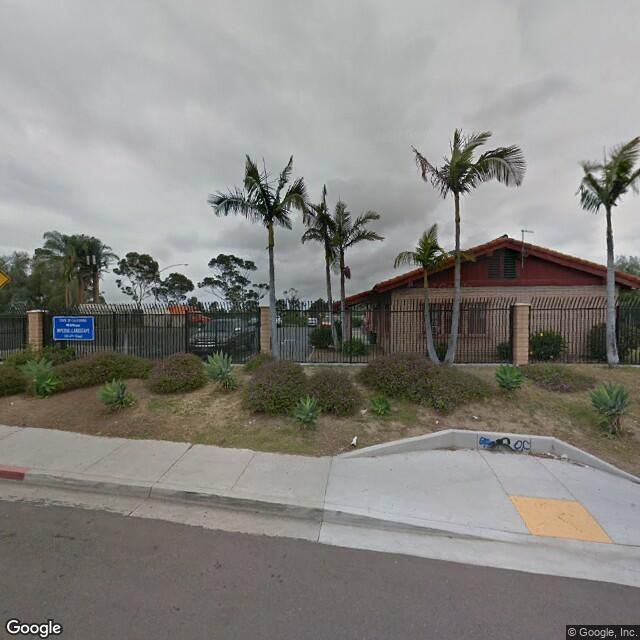litter: (348, 432, 357, 444), (360, 405, 367, 417), (559, 454, 567, 461), (471, 414, 477, 419)
